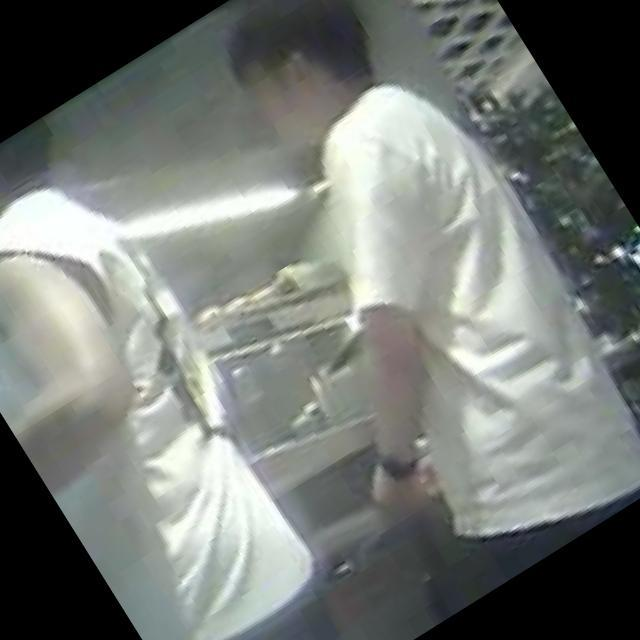person: (120, 0, 640, 614), (0, 110, 396, 640)
